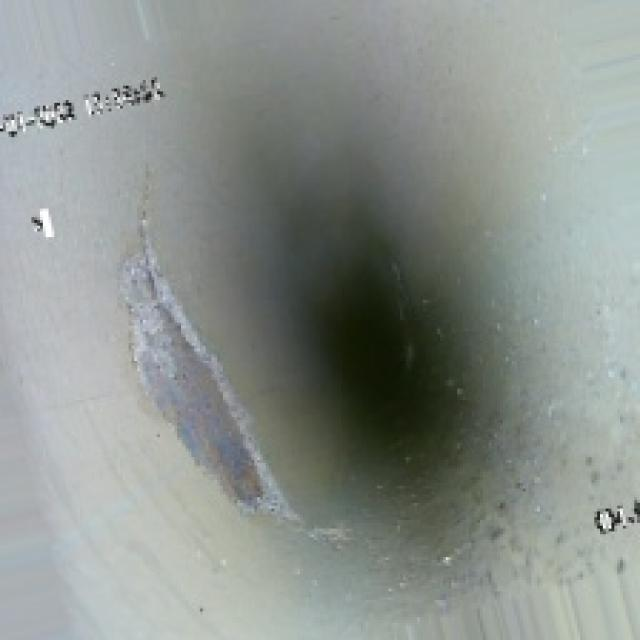pipe_surface_damage: (100, 237, 320, 529)
